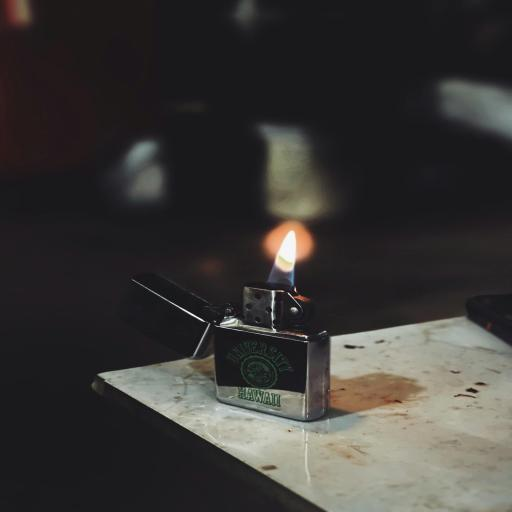fire: (258, 224, 314, 292)
lighter: (88, 221, 374, 442)
